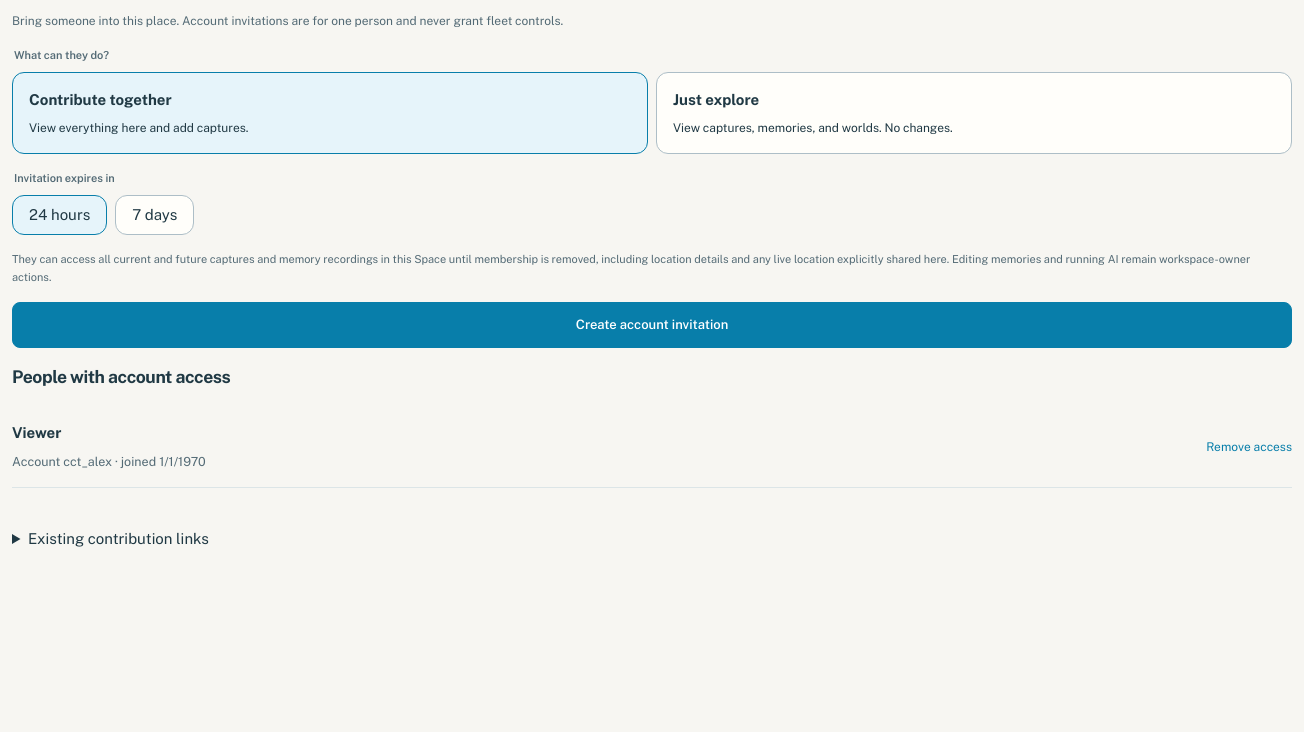
requires confirmation before removing membership
The width and height of the screenshot is (1304, 732).
Click the button "Remove access". click: (1249, 447)
box: [1206,430,1292,464]
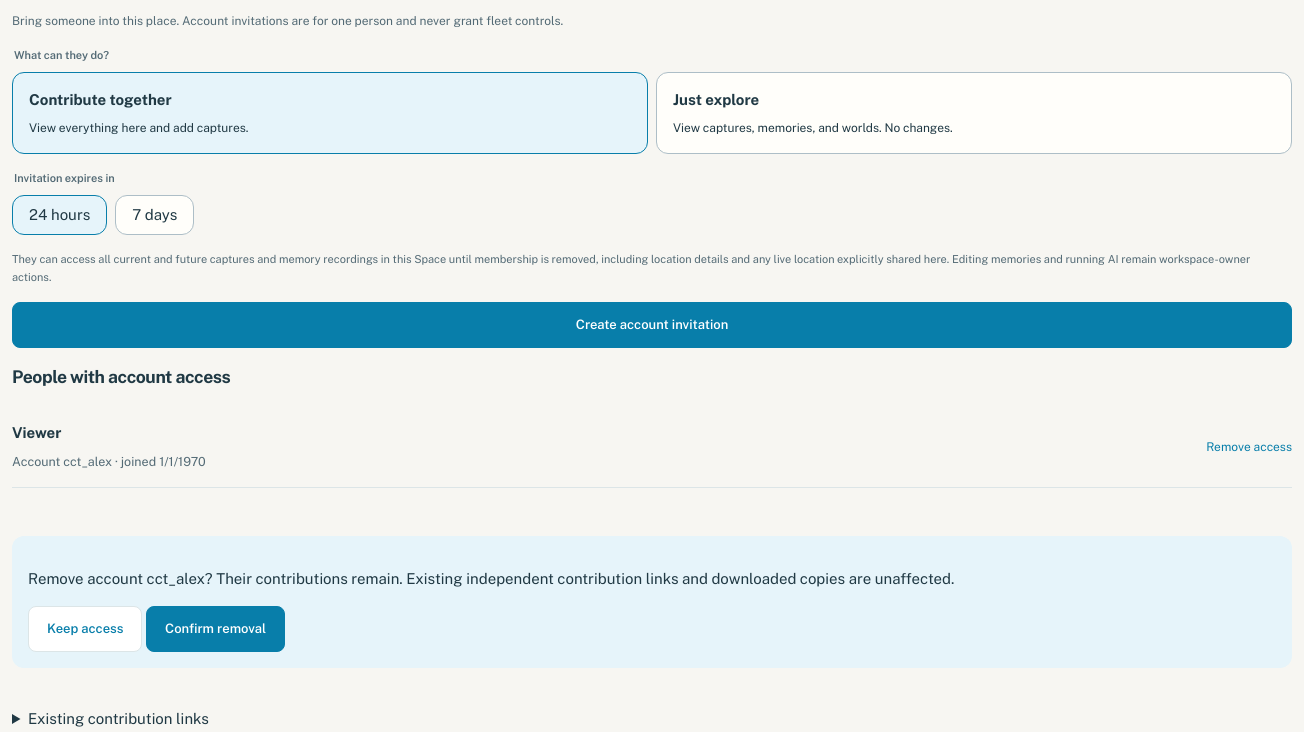
Click the button "Confirm removal". click: (216, 629)
box: [146,606,285,652]
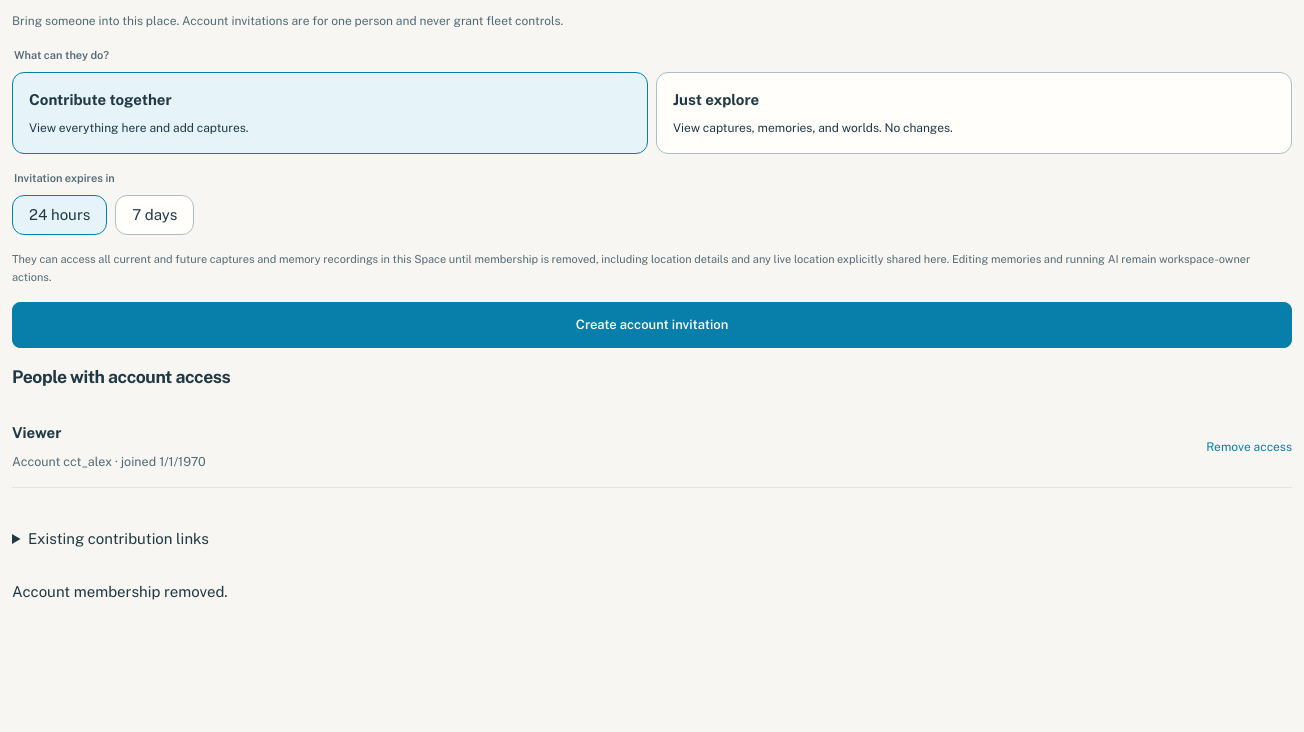
Result: the text "Account membership removed." is shown at [12,583,228,600]
